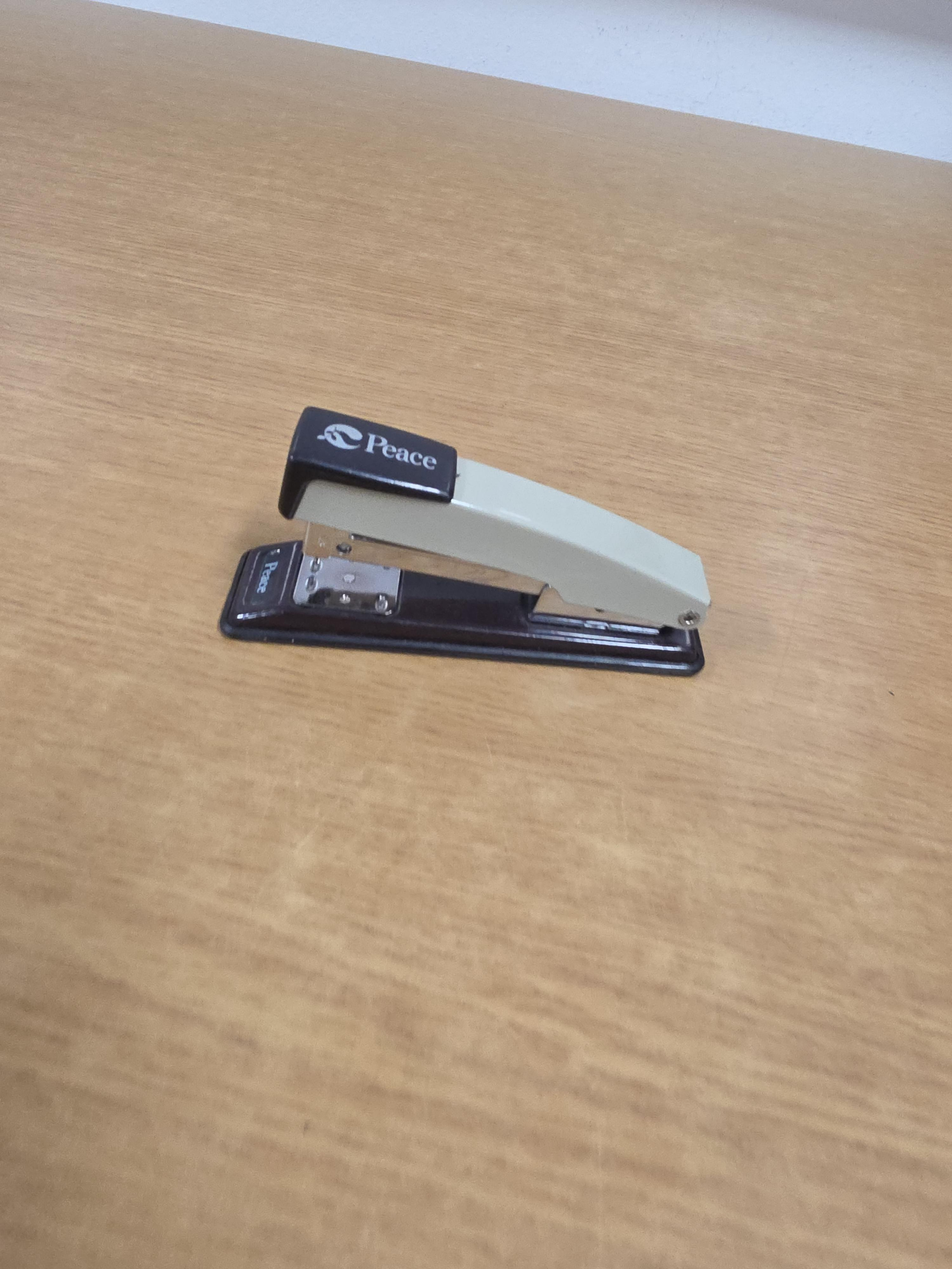stapler: (218, 406, 712, 677)
